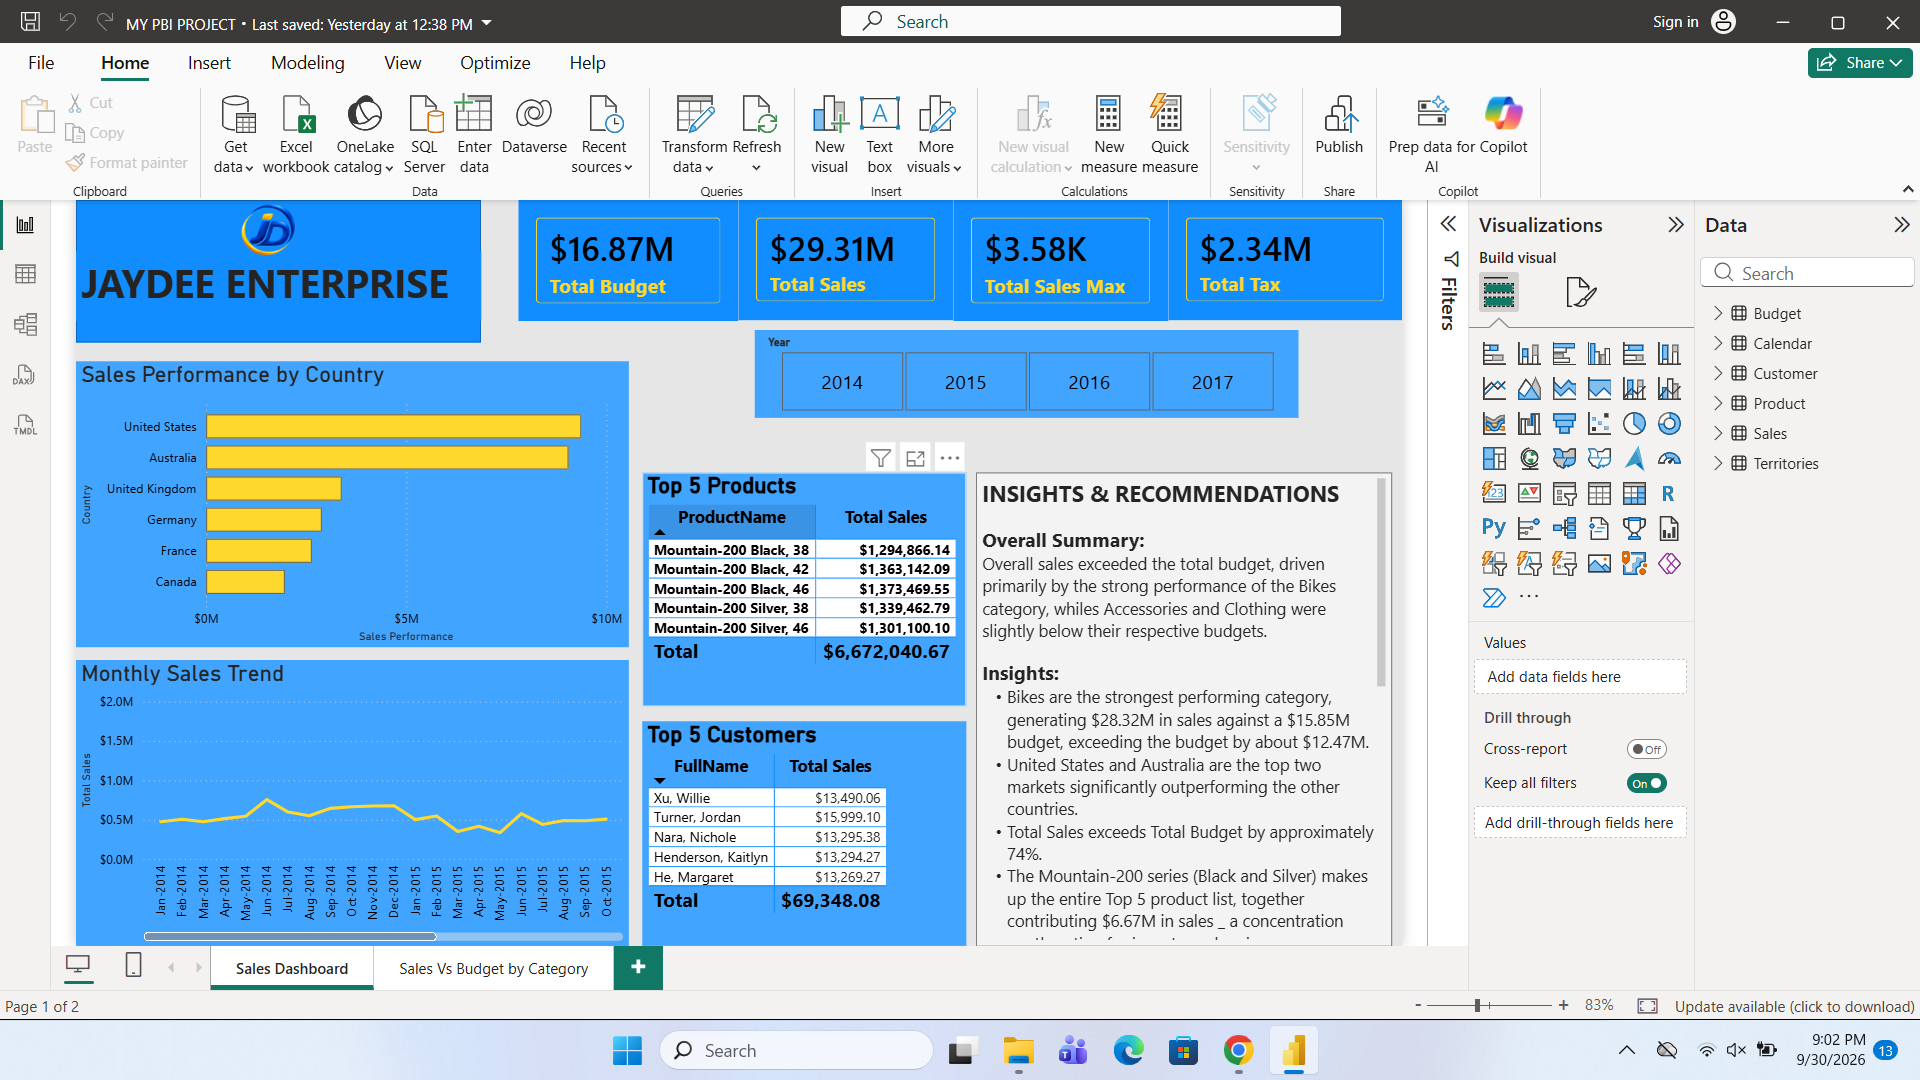

What the dashboard file says about the page in this screenshot:
{"tool":"powerbi","page":{"name":"Sales Dashboard","canvas":[1280,720],"ordinal":0},"visuals":[{"type":"cardVisual","fields":{"Data":["Sales.Total Sales"]},"box":[639.4,0,207.5,115.8],"z":0},{"type":"cardVisual","fields":{"Data":["Sales.Total Tax"]},"box":[1054.4,0,225.6,115.8],"z":1000},{"type":"cardVisual","fields":{"Data":["Budget.Total Budget"]},"box":[427.1,0,212.3,117],"z":2000},{"type":"cardVisual","fields":{"Data":["Sales.Total Sales Max"]},"box":[846.9,0,207.5,117],"z":3000},{"type":"slicer","fields":{"Values":["Calendar.Year"]},"box":[655.1,125.5,524.8,84.5],"z":4000},{"type":"tableEx","title":"Top 5 Products","fields":{"Values":["Product.ProductName","Sales.Total Sales"]},"box":[546.5,263,312.5,225.6],"z":5000},{"type":"tableEx","title":"Top 5 Customers","fields":{"Values":["Customer.FullName","Sales.Total Sales"]},"box":[546.5,503.1,312.5,217.2],"z":6000},{"type":"barChart","fields":{"Category":["Territories.Country"],"Y":["Sales.Total Sales"]},"box":[0,155.6,533.2,276.3],"z":7000},{"type":"shape","box":[0,0,390.9,137.5],"z":8000},{"type":"textbox","box":[0,48.9,391.3,67.3],"z":9000},{"type":"image","box":[151.6,0,67.3,58.7],"z":10000},{"type":"lineChart","title":"Monthly Sales Trend","fields":{"Category":["Calendar.MonthYearLong"],"Y":["Sales.Total Sales"]},"box":[0,444,533.2,276.3],"z":11000},{"type":"textbox","box":[868.6,263,401.7,457.2],"z":12000}]}

Visuals, with their boxes on the page's 1280x720 design canvas (x1, y1, x2, y2). These are canvas units, not pixel positions in the 1920x1080 screenshot, which may show the page scaled, cropped or inside an application window:
cardVisual - Sales.Total Sales: 639/0/847/116
cardVisual - Sales.Total Tax: 1054/0/1280/116
cardVisual - Budget.Total Budget: 427/0/639/117
cardVisual - Sales.Total Sales Max: 847/0/1054/117
slicer - Calendar.Year: 655/126/1180/210
"Top 5 Products" tableEx: 546/263/859/489
"Top 5 Customers" tableEx: 546/503/859/720
barChart - Territories.Country x Sales.Total Sales: 0/156/533/432
shape: 0/0/391/138
textbox: 0/49/391/116
image: 152/0/219/59
"Monthly Sales Trend" lineChart: 0/444/533/720
textbox: 869/263/1270/720
